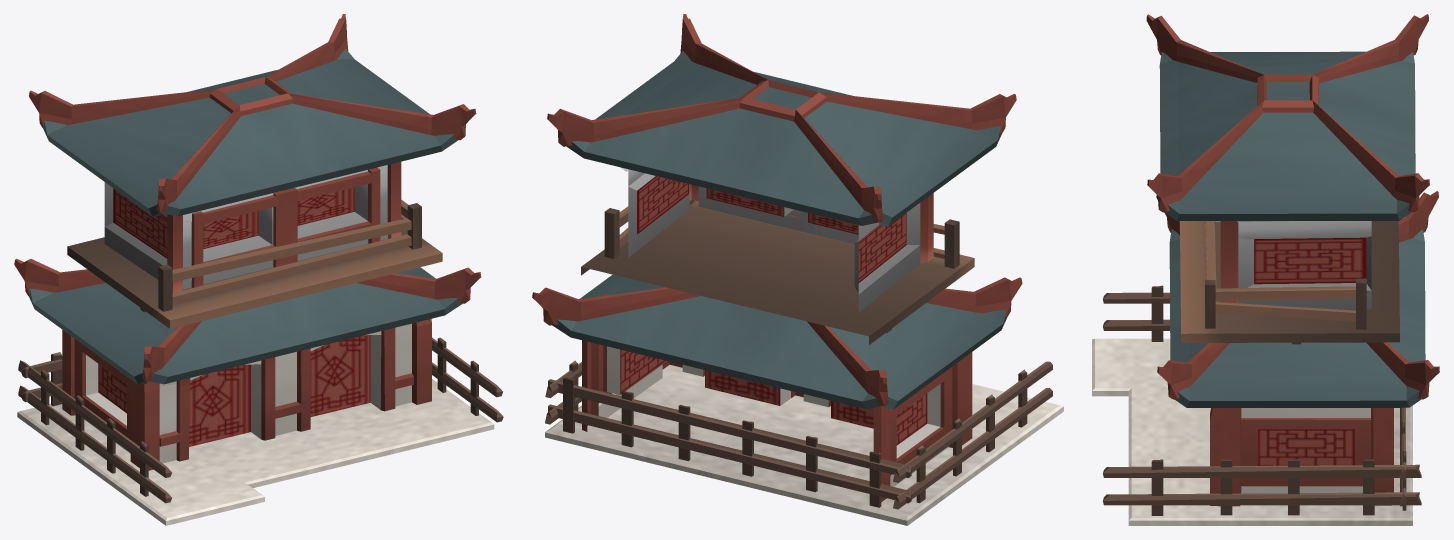
File: Camp_2lvl.fbx
3 renders of one model, left to right at view 1: azimuth 30°, elevation 25°; view 2: azimuth 150°, elevation 25°; view 3: azimuth 270°, elevation 25°, orthographic. The views are drawn at different scales.
Visible parts, largest first — view 1: Camp_2lvl; view 2: Camp_2lvl; view 3: Camp_2lvl.
Boxes of the visible parts, x1,y1,x2,y2 form: Camp_2lvl: [14, 14, 503, 525]; Camp_2lvl: [532, 14, 1063, 525]; Camp_2lvl: [1092, 14, 1439, 525].
Bounding box in the file's own units: 6.01 × 5.39 × 4.86.
1 material, 1 textured.
